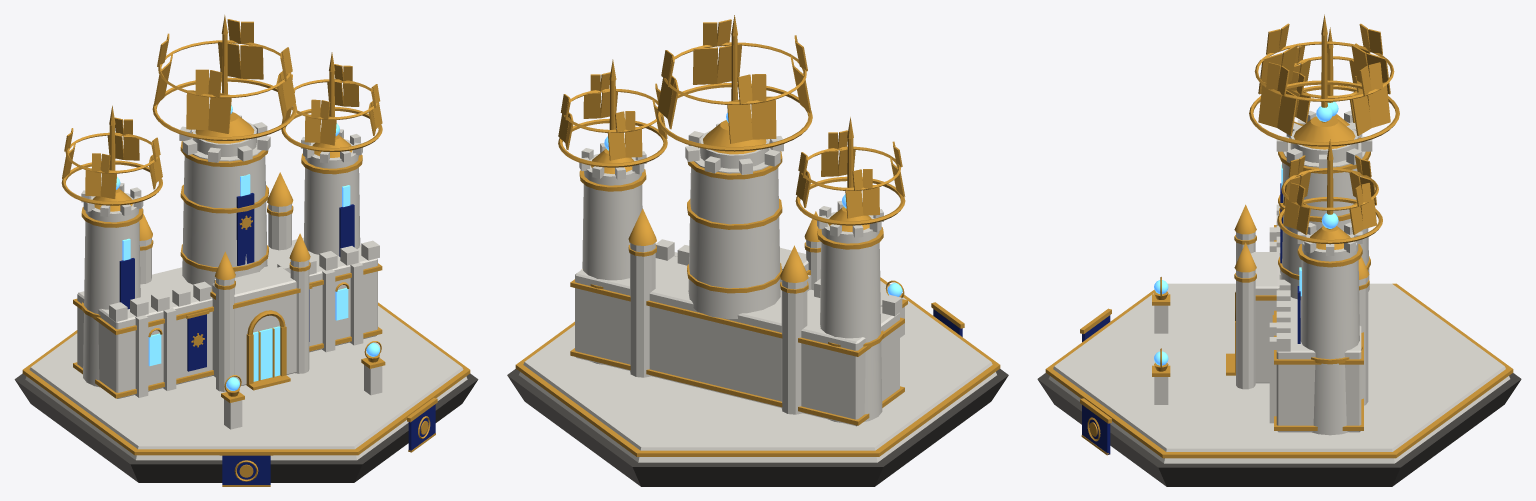
The model's file is zeus_cloudwall_bastion.glb.
The picture shows the model from 3 angles, left to right: view 1: azimuth 30°, elevation 25°; view 2: azimuth 150°, elevation 25°; view 3: azimuth 270°, elevation 25°; orthographic projection. The views are drawn at different scales.
Visible parts, largest first — view 1: zeus_cloudwall_bastion; view 2: zeus_cloudwall_bastion; view 3: zeus_cloudwall_bastion.
Boxes of the visible parts, x1=… form: zeus_cloudwall_bastion: x1=14, y1=15, x2=478, y2=486; zeus_cloudwall_bastion: x1=507, y1=15, x2=1008, y2=486; zeus_cloudwall_bastion: x1=1037, y1=14, x2=1521, y2=486.
Size of the model in its own units: 1.49 by 1.53 by 1.72.
Materials: 1 (1 with a texture image).
